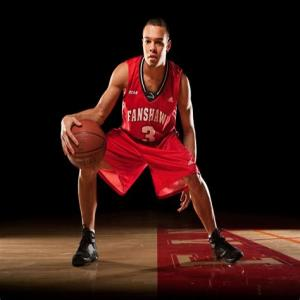Basket: (66, 119, 107, 169)
